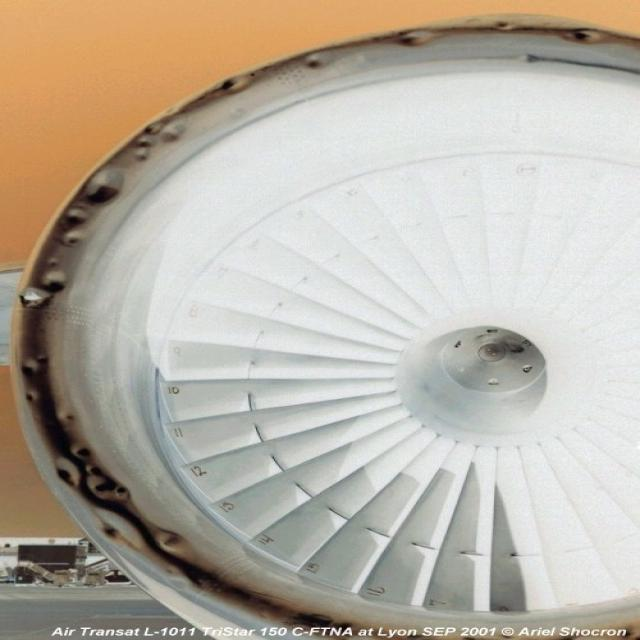dent: (36, 438, 200, 597), (67, 165, 131, 210)
